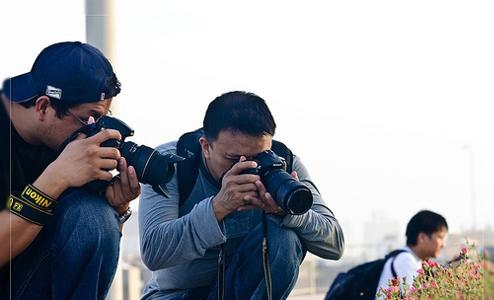person: (138, 92, 346, 300)
